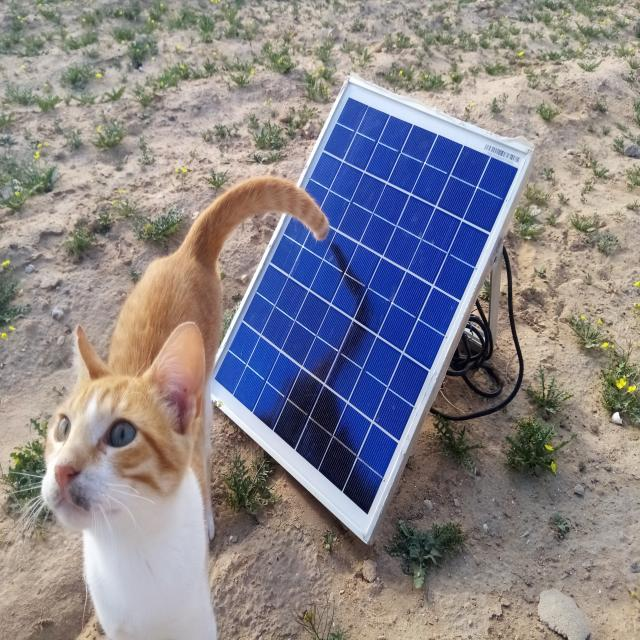no faulty: (210, 80, 532, 543)
